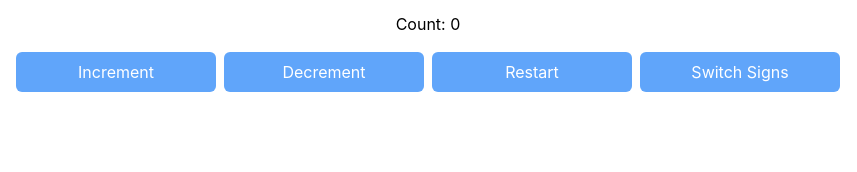
Scenario: check buttons › decrements count when 'Decrement' button is clicked
Step 1. Click the button "Decrement" → (324, 72), box x1=224 y1=52 x2=424 y2=92
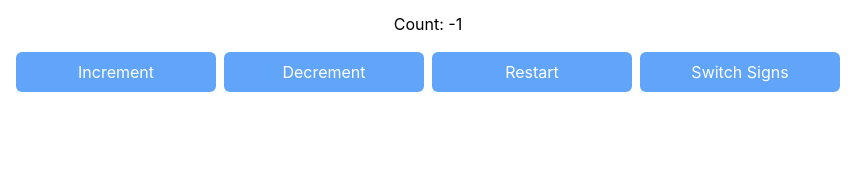
Expected: the text with test id "count" reads "-1", x1=448 y1=14 x2=462 y2=34
